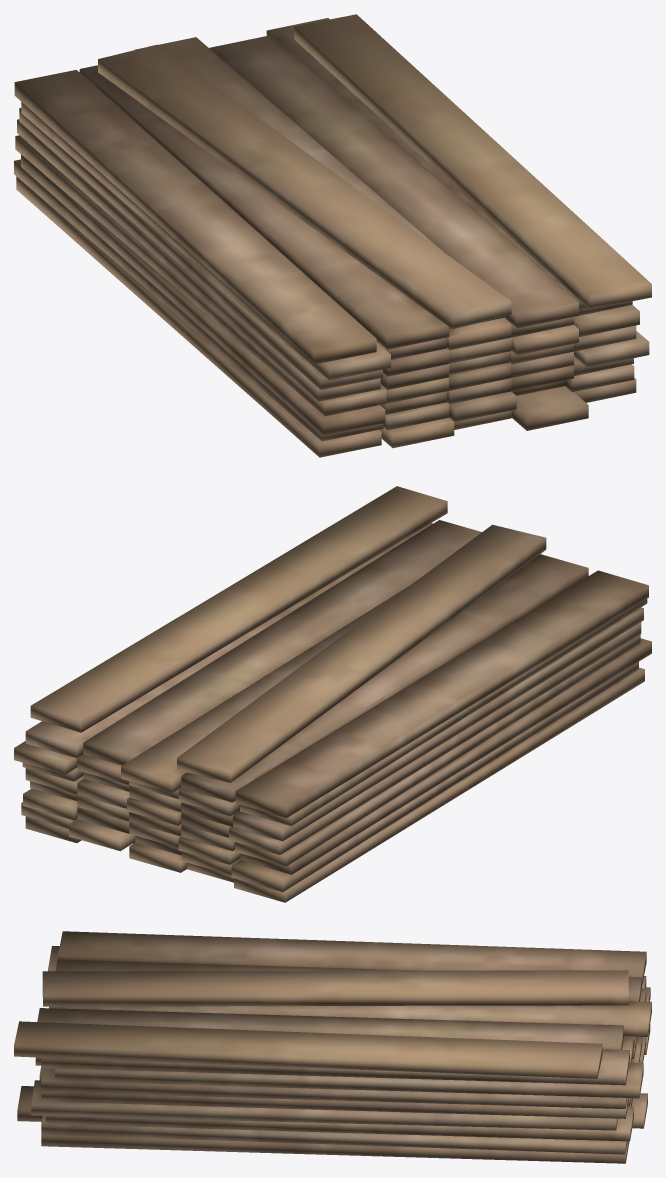
Rendered from plank-stack.lod1.glb.
3 renders of one model, top to bottom at view 1: azimuth 30°, elevation 25°; view 2: azimuth 150°, elevation 25°; view 3: azimuth 270°, elevation 25°, orthographic. The views are drawn at different scales.
Parts seen in each view (by area): view 1: Planks_Planks_0; view 2: Planks_Planks_0; view 3: Planks_Planks_0.
Boxes of the visible parts, bbox=[...] form: Planks_Planks_0: bbox=[14, 14, 651, 457]; Planks_Planks_0: bbox=[14, 486, 651, 902]; Planks_Planks_0: bbox=[14, 931, 651, 1163].
Size of the model in its own units: 1.64 by 0.5219 by 3.
1 material, 1 textured.
